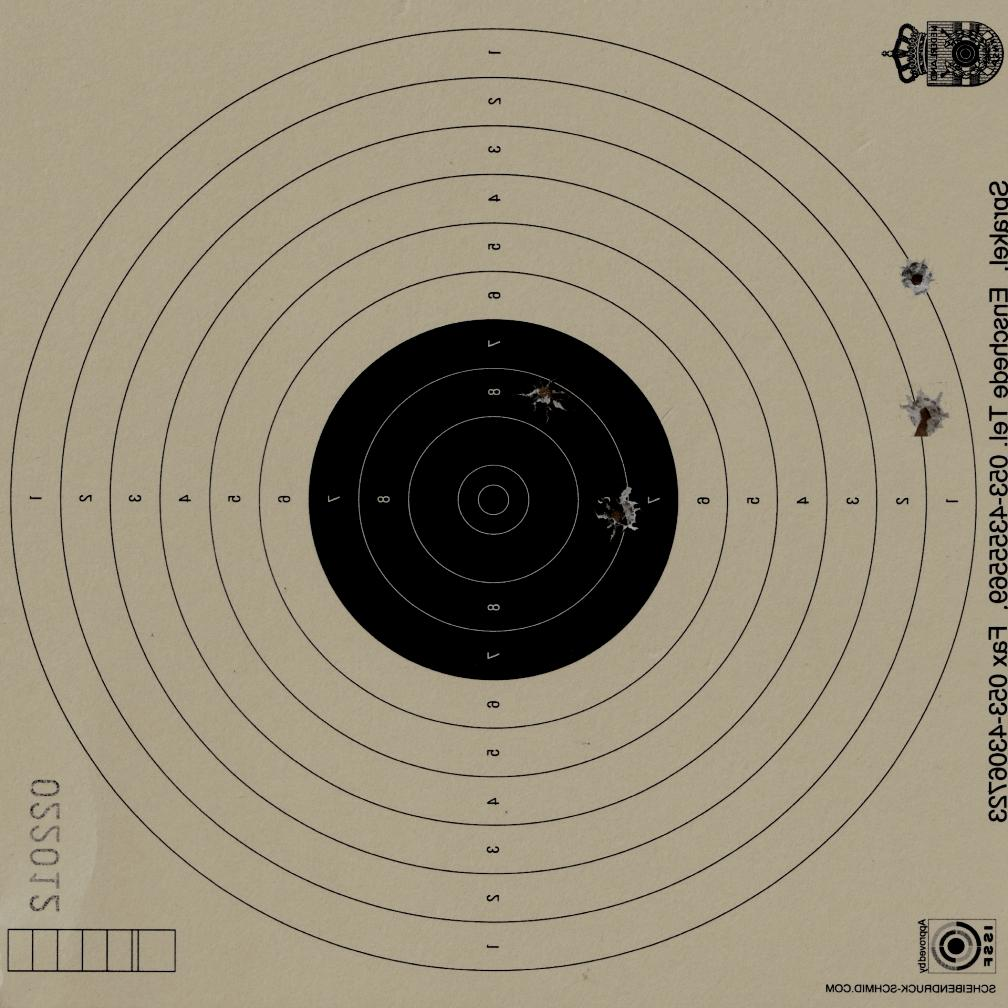1: (898, 258, 936, 298)
2: (898, 388, 954, 438)
8: (590, 485, 646, 546), (514, 375, 575, 426)
Target: (4, 23, 982, 978)
black_contour: (306, 319, 679, 681)
